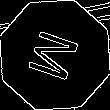M_E: (24, 25, 86, 85)
